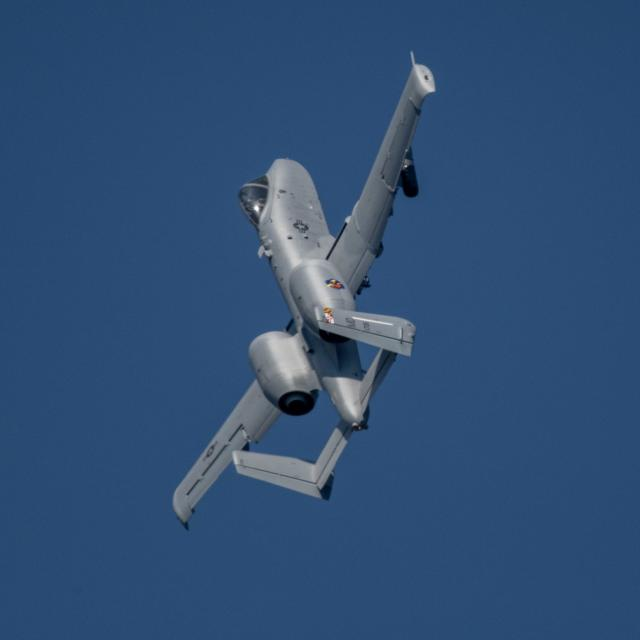MIL_Plane: (172, 49, 436, 532)
